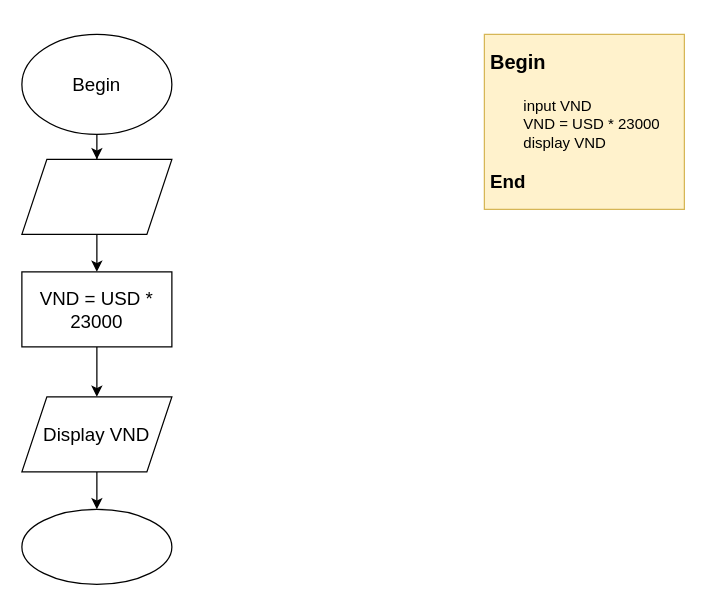
This 706x606 diagram has some shape labels left out. Each missing label, with the centre of its shape:
"END" belongs at (x=96, y=546).
"Input VND" belongs at (x=96, y=196).
